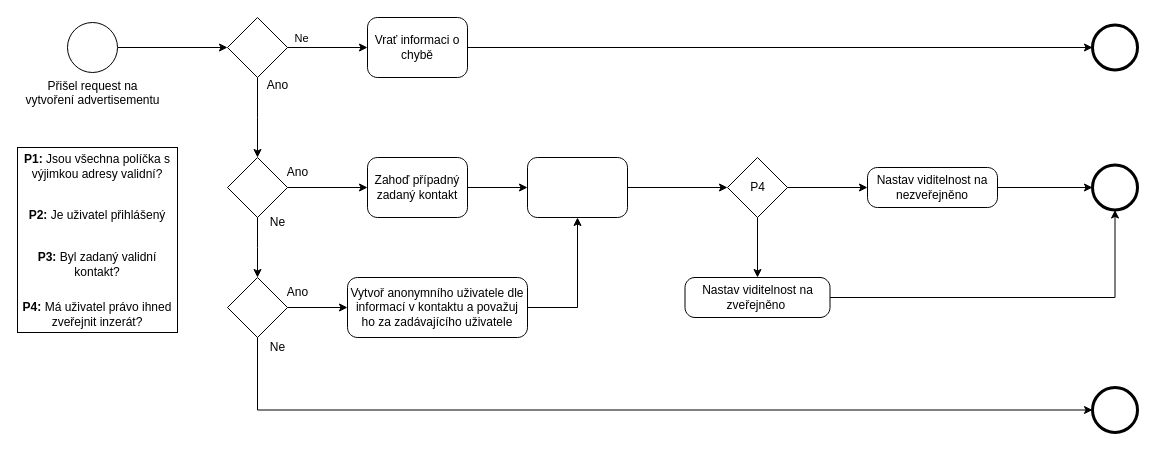
Image size: 1155x450. Some labels were removed from this diagram. The shapes that lost their labels are listed below. From the top down, each one's box as (x1, y1, x2, y2) in pixels, then its label:
(226, 16, 288, 78): P1
(226, 156, 288, 218): P2
(526, 156, 628, 218): Zapiš ID zadávajícího uživatele, jako ID zadavatele
(226, 276, 288, 338): P3
